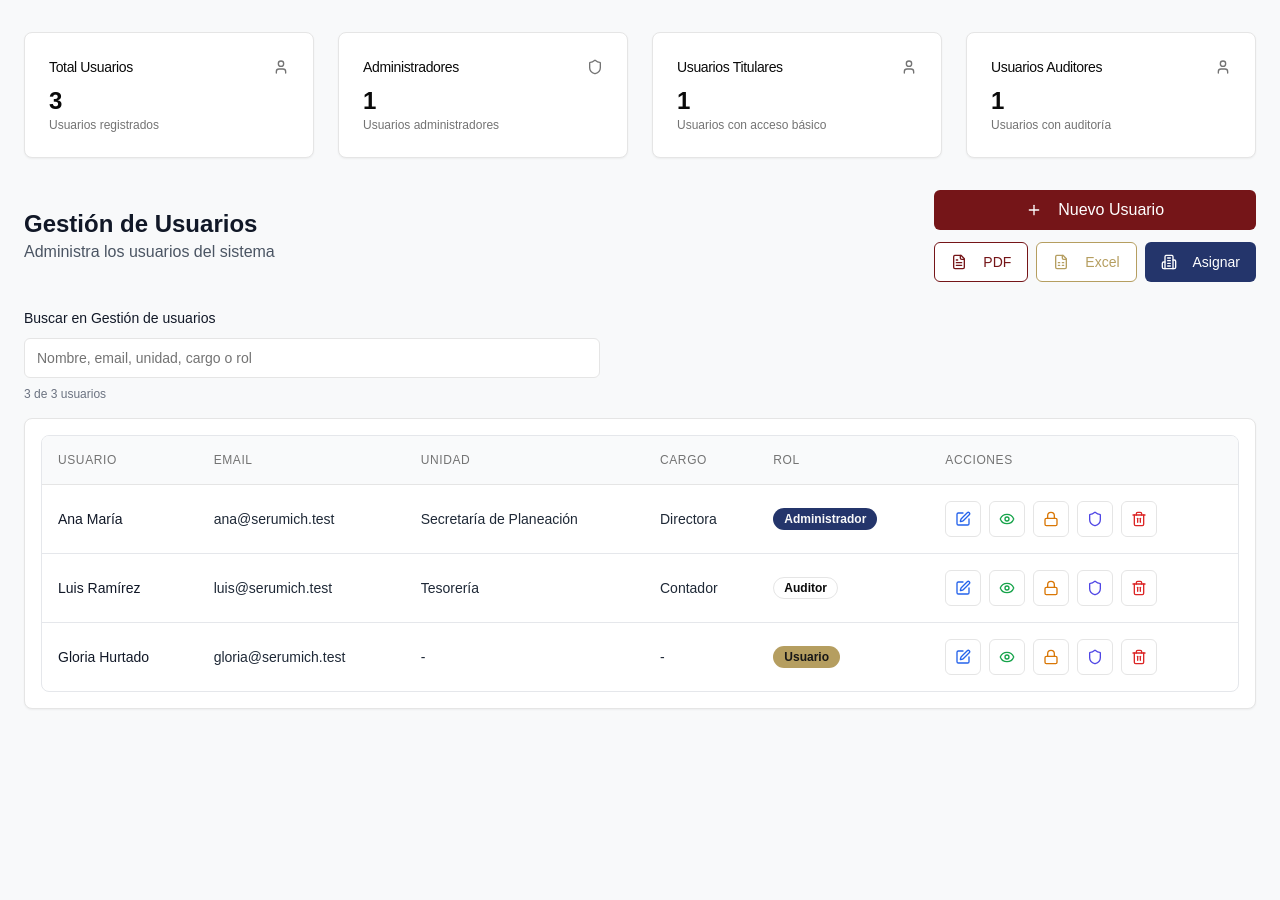
busca LUIS@SERUMICH.TEST en todas las columnas de datos
Expected: the text "Gloria Hurtado" is shown, x1=58 y1=648 x2=149 y2=664
Type "LUIS@SERUMICH.TEST" into the search field labelled "Buscar en Gestión de usuarios" at (312, 358), box x1=24 y1=338 x2=600 y2=378
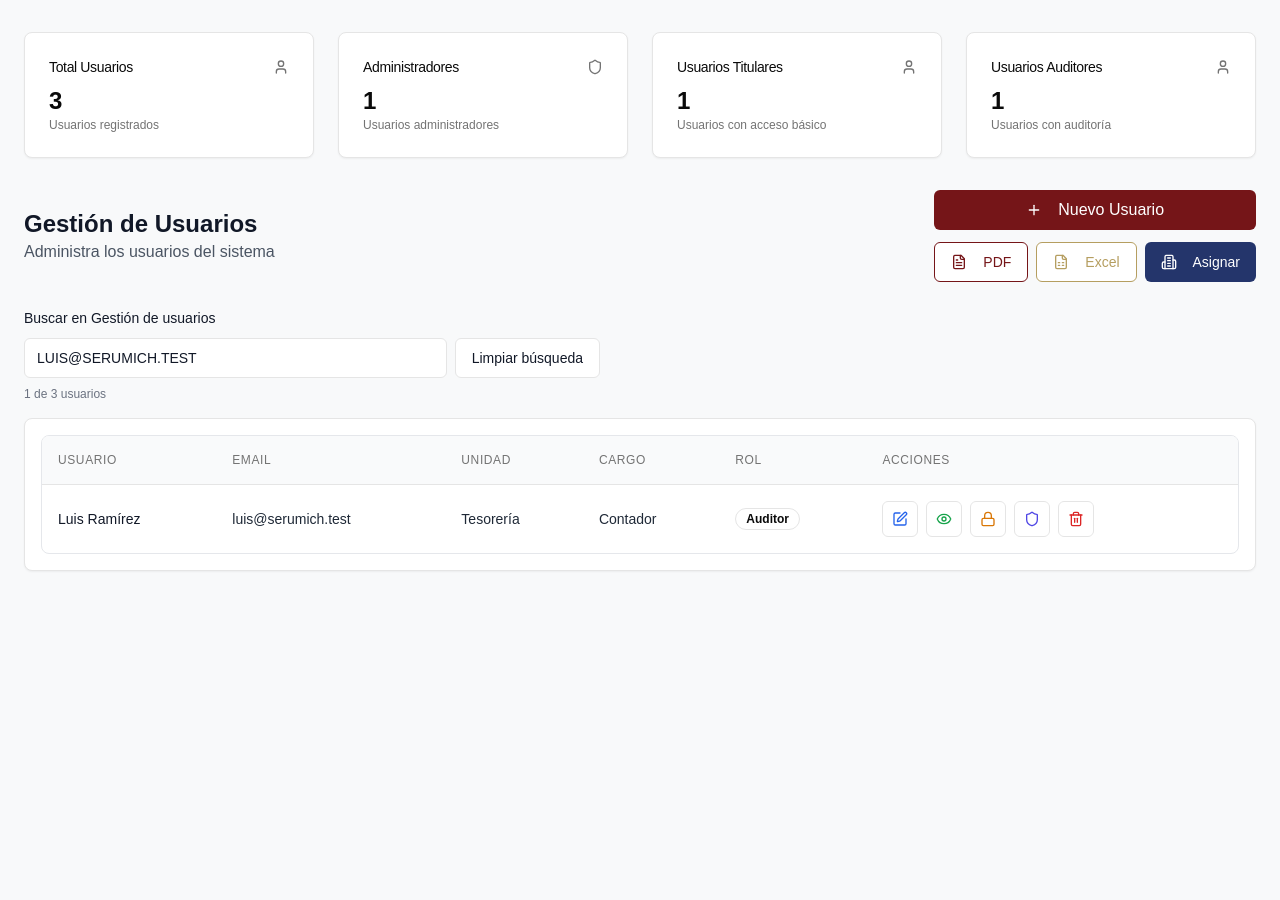
Expected: the text "Luis Ramírez" is shown, x1=58 y1=510 x2=140 y2=526
Expected: the text "1 de 3 usuarios" is shown, x1=24 y1=387 x2=106 y2=401
